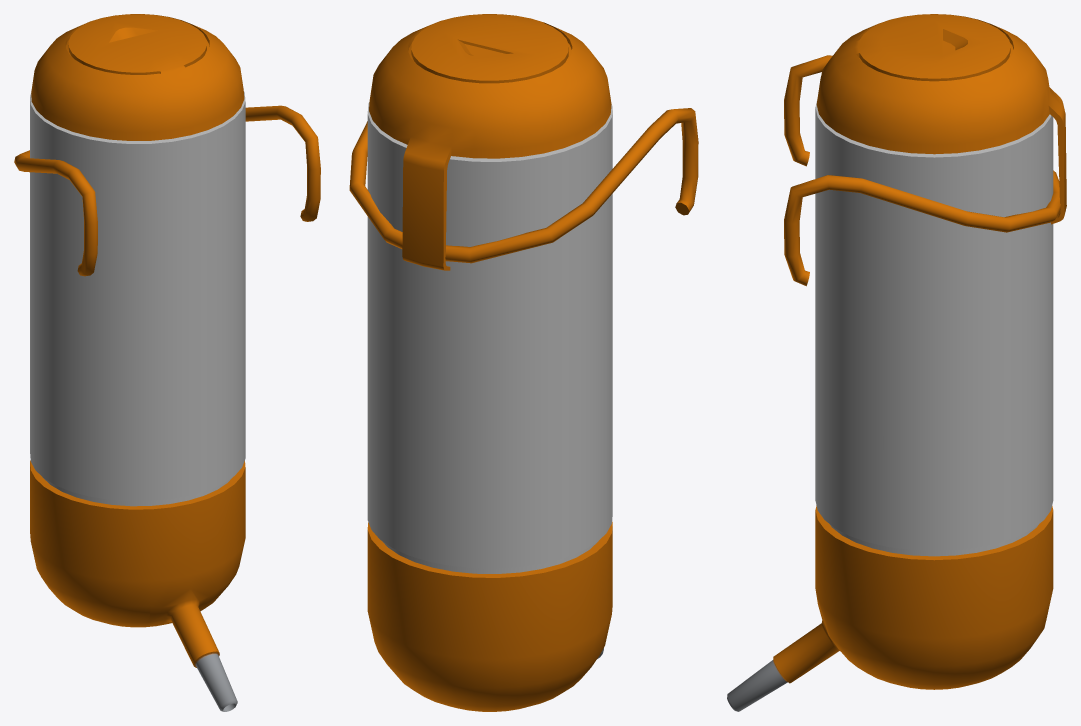
File: Abbeveratoio.fbx
3 renders of one model, left to right at view 1: azimuth 30°, elevation 25°; view 2: azimuth 150°, elevation 25°; view 3: azimuth 270°, elevation 25°, orthographic. The views are drawn at different scales.
Parts seen in each view (by area): view 1: Cube; view 2: Cube; view 3: Cube.
Boxes of the visible parts, <box> form: Cube: <box>14,14,320,711</box>; Cube: <box>349,14,698,711</box>; Cube: <box>727,14,1066,711</box>.
Bounding box in the file's own units: 1729 × 4260 × 1962.
Materials: 1 (1 with a texture image).
